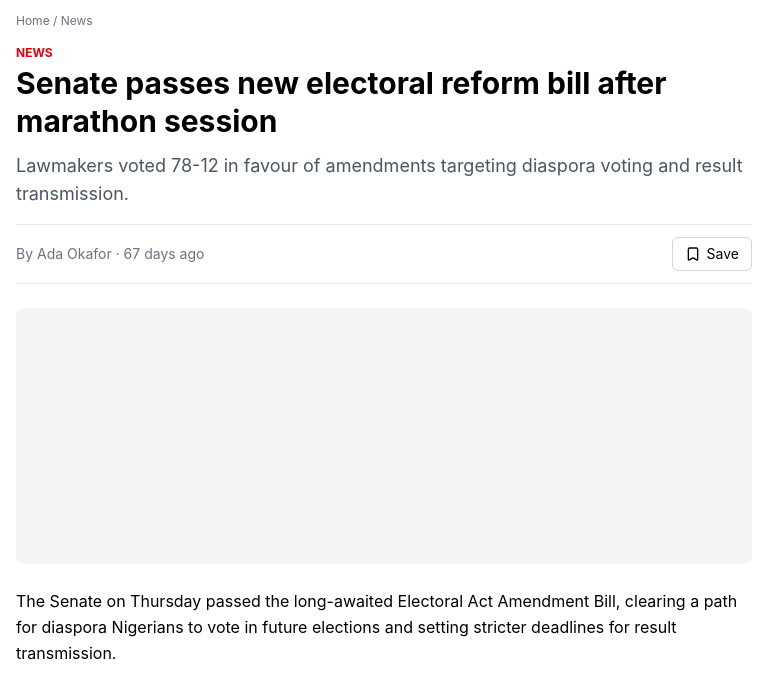
Test case: ArticlePage › lets the reader save the story
Click the button "Save". click: (712,254)
box: left=672, top=237, right=752, bottom=271
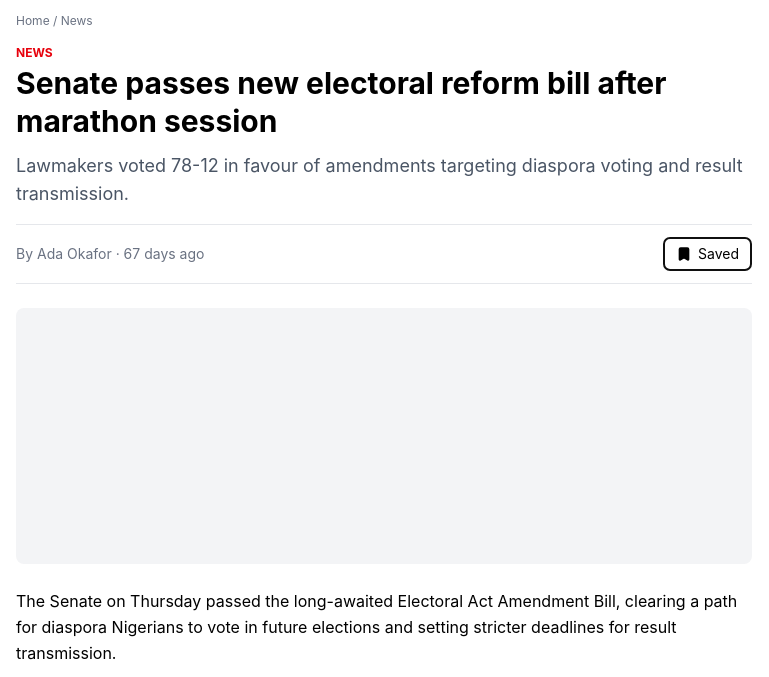
Expected: the button "Saved" is pressed, left=663, top=237, right=752, bottom=271
